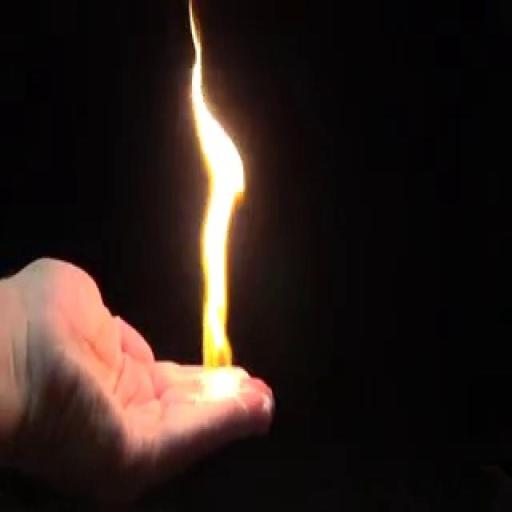smoke: (184, 128, 242, 425)
